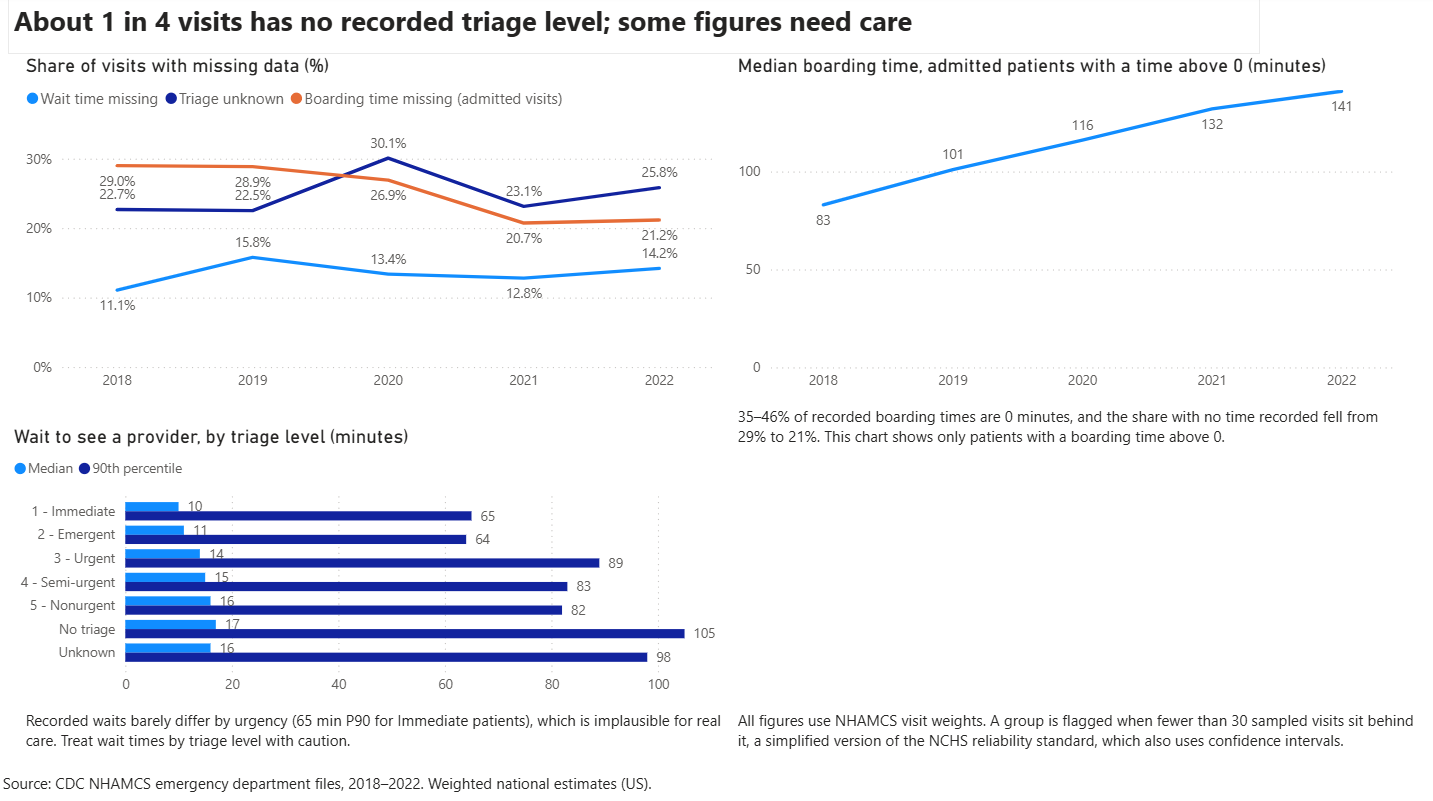

This screenshot's page, from the dashboard's own definition file:
{"tool":"powerbi","page":{"name":"Data quality","canvas":[1280,720],"ordinal":5},"visuals":[{"type":"textbox","box":[9.5,0,1110.2,51.7],"z":0},{"type":"textbox","box":[0,684.3,598.9,35.8],"z":1000},{"type":"lineChart","title":"Share of visits with missing data (%)","fields":{"Category":["dim_year.year"],"Y":["_Measures.Wait Missing %","_Measures.Triage Unknown %","_Measures.Boarding Missing %"]},"box":[20,51.7,620,307.9],"z":2000},{"type":"clusteredBarChart","title":"Wait to see a provider, by triage level (minutes)","fields":{"Category":["dim_triage.triage_group"],"Y":["_Measures.Median Wait (min)","_Measures.P90 Wait (min)"]},"box":[9.5,380.6,642.1,247.8],"z":3000},{"type":"textbox","box":[20,628.4,631.6,45.3],"z":4000},{"type":"lineChart","title":"Median boarding time, admitted patients with a time above 0 (minutes)","fields":{"Category":["dim_year.year"],"Y":["_Measures.Median Boarding above 0 (min)"]},"box":[651.6,51.7,591.5,307.9],"z":5000},{"type":"textbox","box":[651.6,359.5,591.5,46.4],"z":6000},{"type":"textbox","box":[651.6,628.4,613.6,59],"z":7000}]}

Visuals, with their boxes in screenshot pixels (x1, y1, x2, y2), scaled from the page's 1280x720 canvas onto the 1433x801 screenshot:
textbox: select_region(11, 0, 1254, 58)
textbox: select_region(0, 761, 670, 800)
"Share of visits with missing data (%)" lineChart: select_region(22, 58, 716, 400)
"Wait to see a provider, by triage level (minutes)" clusteredBarChart: select_region(11, 423, 729, 699)
textbox: select_region(22, 699, 729, 749)
"Median boarding time, admitted patients with a time above 0 (minutes)" lineChart: select_region(729, 58, 1392, 400)
textbox: select_region(729, 400, 1392, 452)
textbox: select_region(729, 699, 1416, 765)
